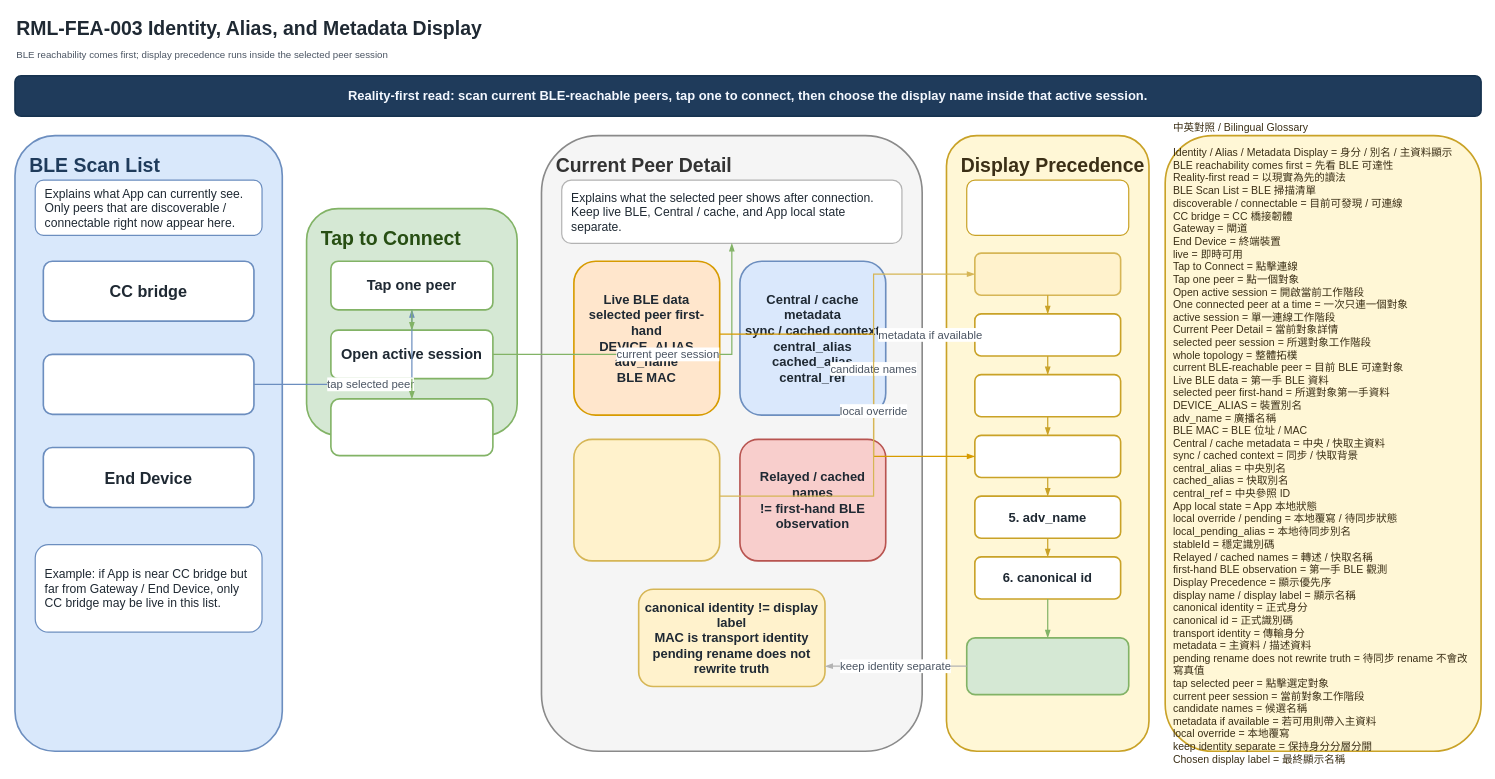
Some shapes in this 1495 by 779 pixel diagram are drawn without their labels. The centre of each missing label's shape, as x and y in pixels:
1. local_pending_alias: (x=1047, y=274)
2. central_alias: (x=1047, y=334)
3. cached_alias: (x=1047, y=395)
4. DEVICE_ALIAS: (x=1047, y=456)
App local state local override / pending local_pending_alias stableId: (x=646, y=499)
Chosen display label: (x=1047, y=666)
Explains how App picks one display name for the current peer detail.: (x=1047, y=207)
Gateway: (x=148, y=384)
One connected peer at a time: (x=411, y=427)
